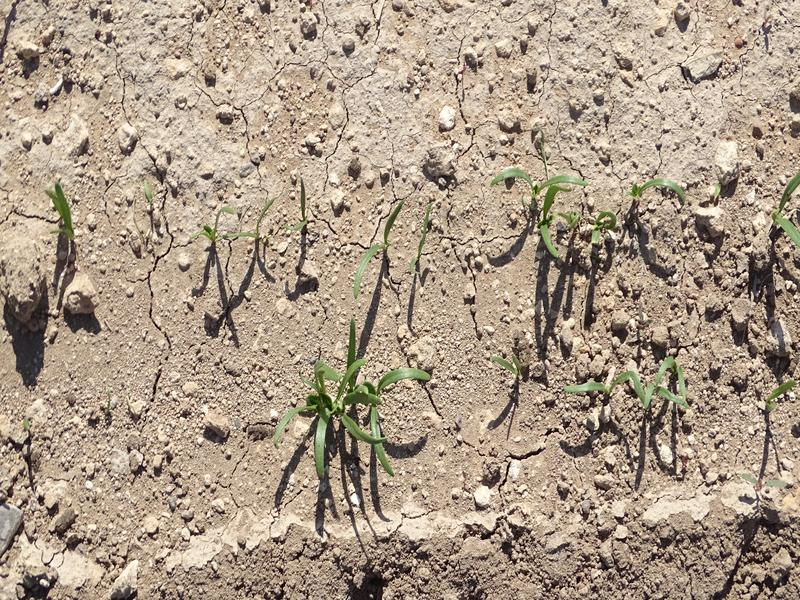Espinaca: (275, 330, 420, 477), (486, 165, 567, 257), (583, 359, 693, 409), (354, 195, 407, 293), (197, 197, 281, 244), (774, 173, 800, 239), (45, 186, 78, 238), (629, 177, 687, 201), (292, 180, 312, 231), (495, 347, 522, 381)
